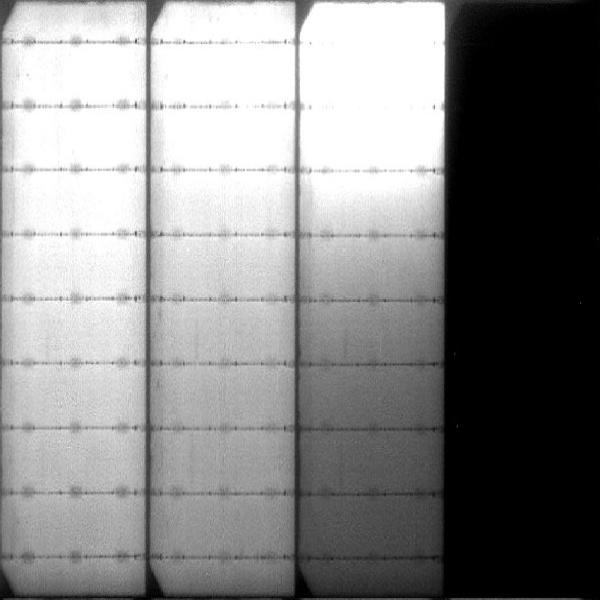hot_spot: (304, 46, 441, 105), (160, 47, 283, 101), (309, 116, 438, 162), (173, 118, 289, 163), (313, 4, 441, 43), (35, 120, 141, 165), (35, 51, 139, 96)
no_electricity: (447, 6, 600, 596)
